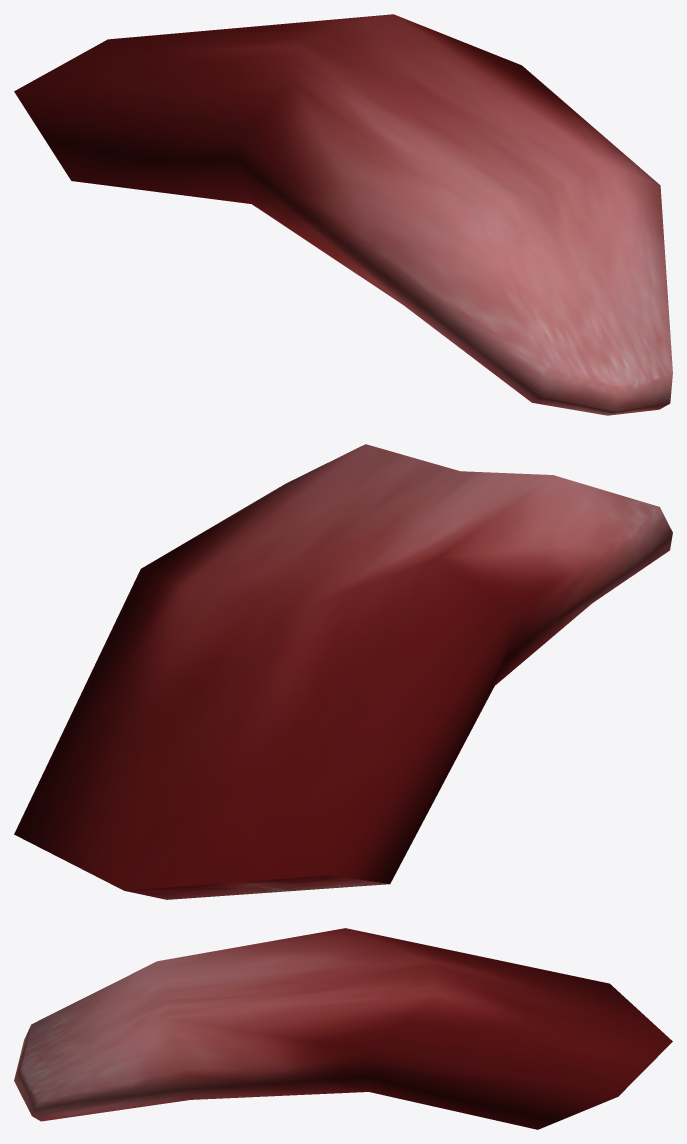
File: gib_tongue.fbx
3 views of the same model, one above another, from view 1: azimuth 30°, elevation 25°; view 2: azimuth 150°, elevation 25°; view 3: azimuth 270°, elevation 25° (orthographic). The views are drawn at different scales.
Visible parts, largest first — view 1: tongue; view 2: tongue; view 3: tongue.
Part boxes in pixels (x1,y1,x2,y2): tongue: (14,14,672,415); tongue: (14,444,672,899); tongue: (14,928,672,1129).
Bounding box in the file's own units: 0.0568 × 0.0322 × 0.1347.
